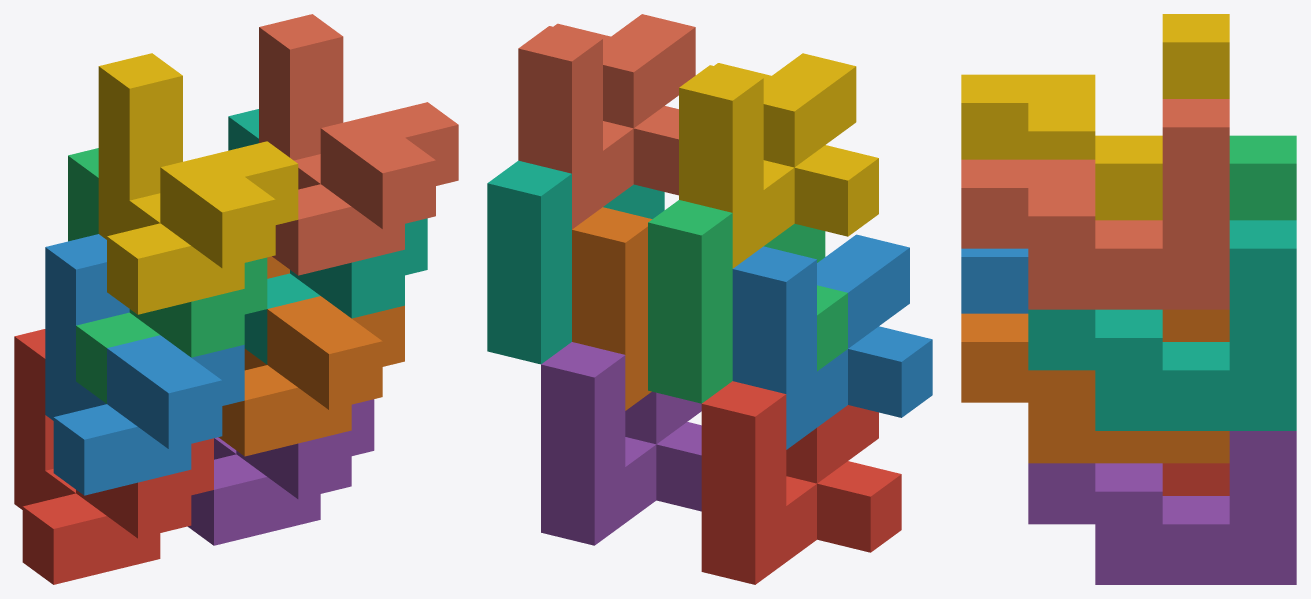
Rendered from tiling.obj.
The picture shows the model from 3 angles, left to right: view 1: azimuth 30°, elevation 25°; view 2: azimuth 150°, elevation 25°; view 3: azimuth 270°, elevation 25°; orthographic projection. The views are drawn at different scales.
Parts seen in each view (by area): view 1: copy_1_domain_4, copy_1_domain_8, copy_1_domain_2, copy_1_domain_1, copy_1_domain_6, copy_1_domain_5, copy_1_domain_3, copy_1_domain_7; view 2: copy_1_domain_4, copy_1_domain_1, copy_1_domain_2, copy_1_domain_8, copy_1_domain_5, copy_1_domain_3, copy_1_domain_7, copy_1_domain_6; view 3: copy_1_domain_8, copy_1_domain_7, copy_1_domain_5, copy_1_domain_4, copy_1_domain_6, copy_1_domain_3, copy_1_domain_2, copy_1_domain_1.
Boxes of the visible parts, x1=… form: copy_1_domain_4: x1=98, y1=53, x2=298, y2=314; copy_1_domain_8: x1=259, y1=14, x2=458, y2=275; copy_1_domain_2: x1=45, y1=234, x2=244, y2=495; copy_1_domain_1: x1=14, y1=329, x2=213, y2=584; copy_1_domain_6: x1=218, y1=256, x2=404, y2=456; copy_1_domain_5: x1=187, y1=399, x2=374, y2=545; copy_1_domain_3: x1=68, y1=148, x2=267, y2=403; copy_1_domain_7: x1=228, y1=109, x2=427, y2=364; copy_1_domain_4: x1=679, y1=53, x2=878, y2=268; copy_1_domain_1: x1=701, y1=381, x2=901, y2=584; copy_1_domain_2: x1=732, y1=234, x2=932, y2=449; copy_1_domain_8: x1=518, y1=14, x2=695, y2=229; copy_1_domain_5: x1=541, y1=342, x2=701, y2=545; copy_1_domain_3: x1=648, y1=200, x2=847, y2=403; copy_1_domain_7: x1=487, y1=160, x2=664, y2=364; copy_1_domain_6: x1=572, y1=207, x2=652, y2=410; copy_1_domain_8: x1=961, y1=99, x2=1229, y2=309; copy_1_domain_7: x1=1028, y1=220, x2=1296, y2=430; copy_1_domain_5: x1=1028, y1=431, x2=1296, y2=584; copy_1_domain_4: x1=961, y1=14, x2=1229, y2=220; copy_1_domain_6: x1=961, y1=309, x2=1229, y2=463; copy_1_domain_3: x1=1229, y1=135, x2=1296, y2=220; copy_1_domain_2: x1=961, y1=248, x2=1028, y2=313; copy_1_domain_1: x1=1162, y1=463, x2=1229, y2=495.
Bounding box in the file's own units: 7 × 8 × 5.
